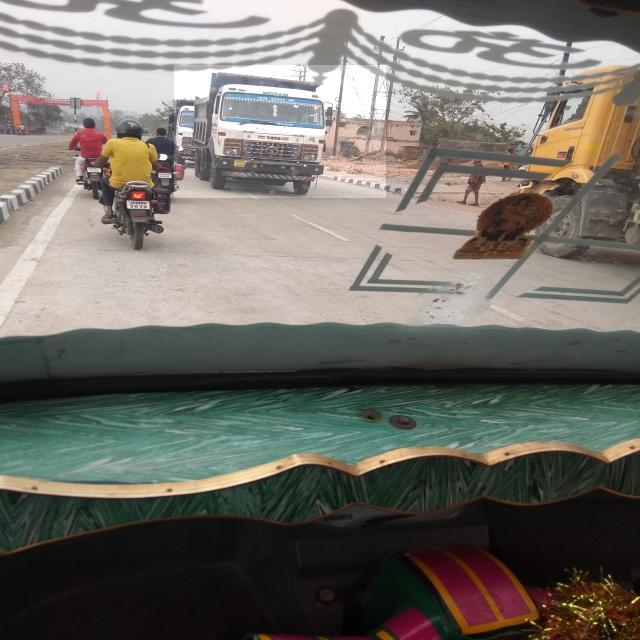Truck: (174, 65, 386, 198)
